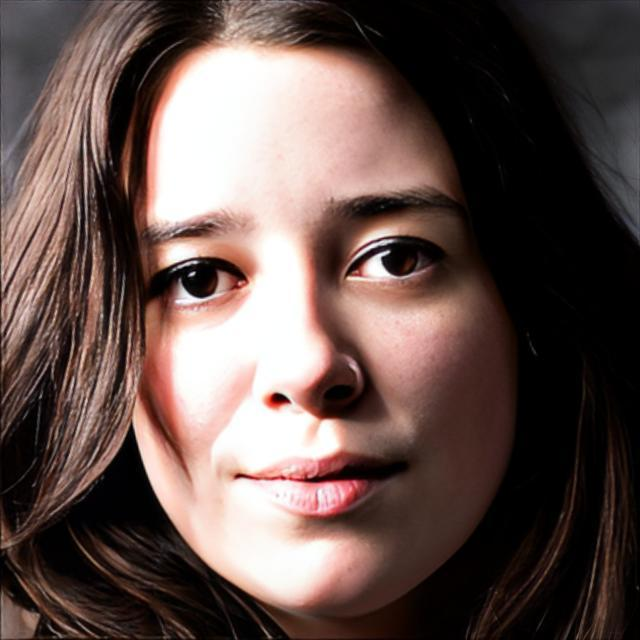content: (124, 29, 516, 604)
